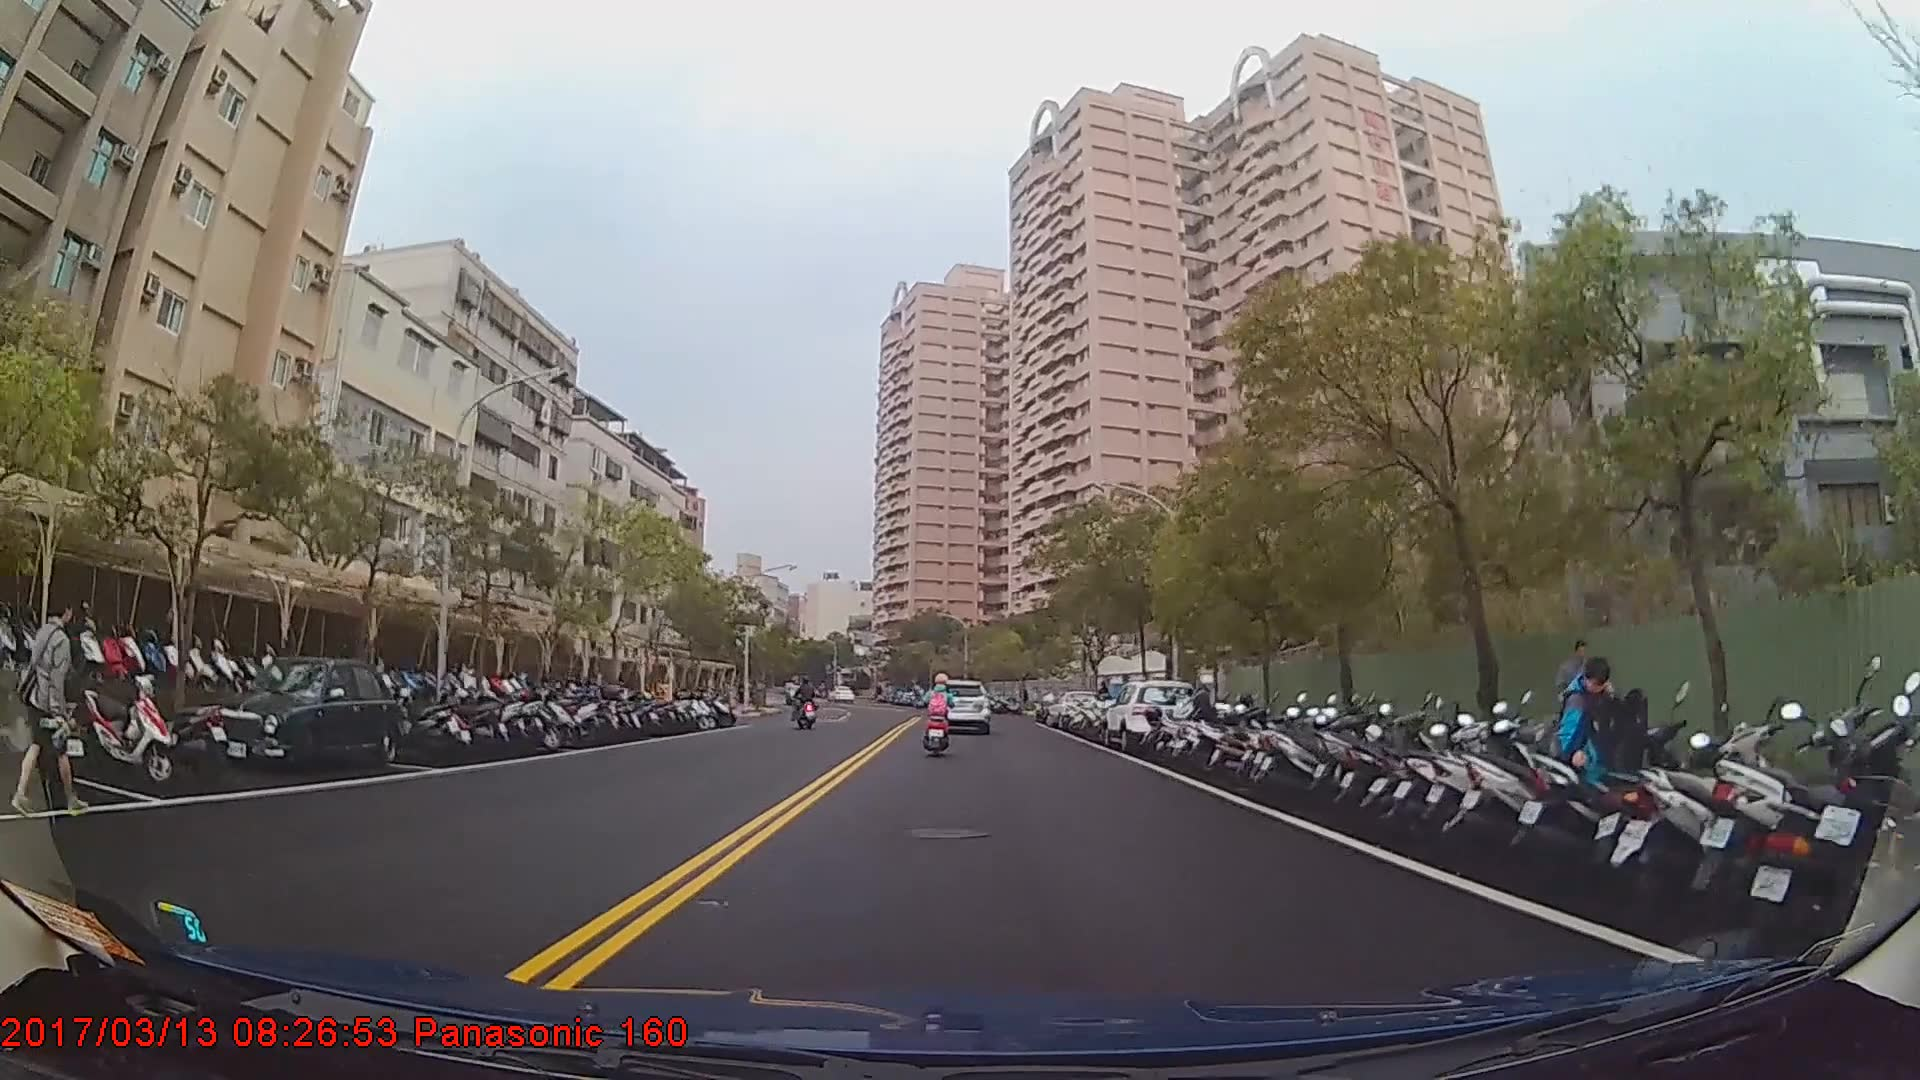pedestrian: (1550, 659, 1643, 867), (19, 589, 94, 820), (1555, 638, 1614, 774)
rider: (923, 670, 958, 758), (795, 675, 820, 732)
vehicle: (210, 656, 398, 780), (1102, 679, 1201, 755), (931, 682, 989, 735)
